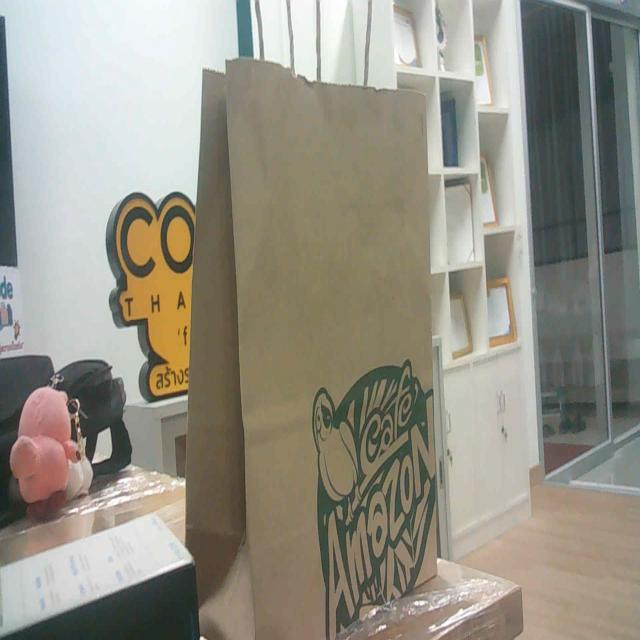bag: (187, 52, 462, 627)
